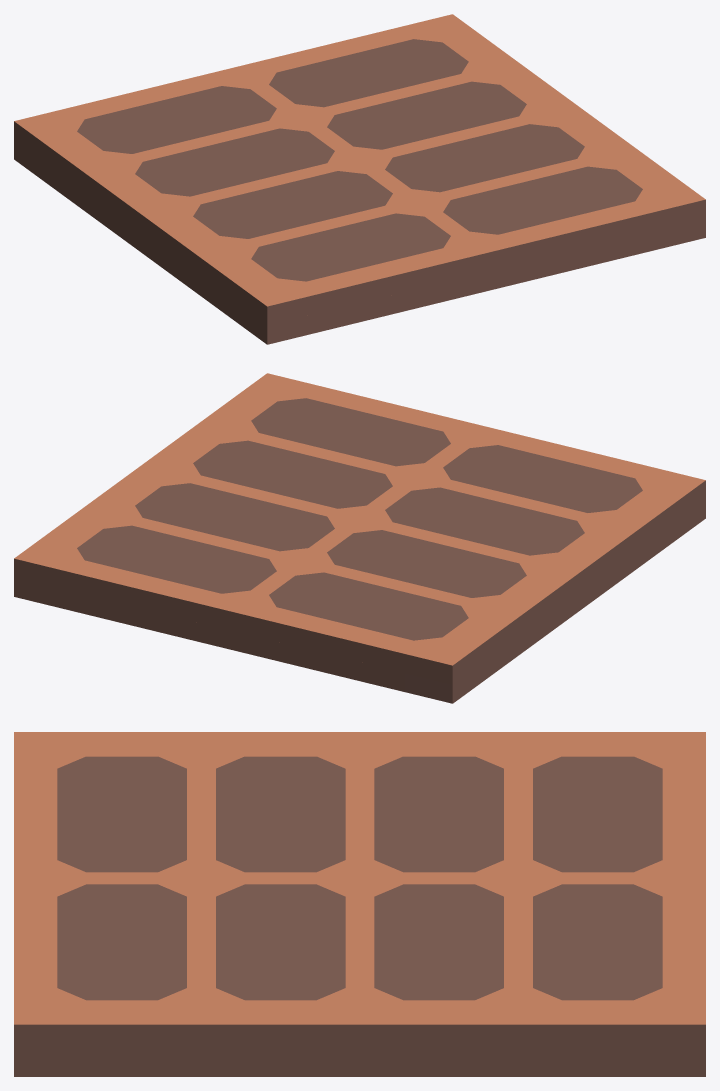
File: Quart_FloorCeiling_01_snaps002.fbx
3 views of the same model, one above another, from view 1: azimuth 30°, elevation 25°; view 2: azimuth 150°, elevation 25°; view 3: azimuth 270°, elevation 25° (orthographic). The views are drawn at different scales.
Parts seen in each view (by area): view 1: Quart_FloorCeiling_01_snaps002; view 2: Quart_FloorCeiling_01_snaps002; view 3: Quart_FloorCeiling_01_snaps002.
Part boxes in pixels (x1=…): Quart_FloorCeiling_01_snaps002: x1=14, y1=14, x2=705, y2=344; Quart_FloorCeiling_01_snaps002: x1=14, y1=373, x2=705, y2=703; Quart_FloorCeiling_01_snaps002: x1=14, y1=732, x2=705, y2=1076.
Size of the model in its own units: 300 by 25 by 300.
